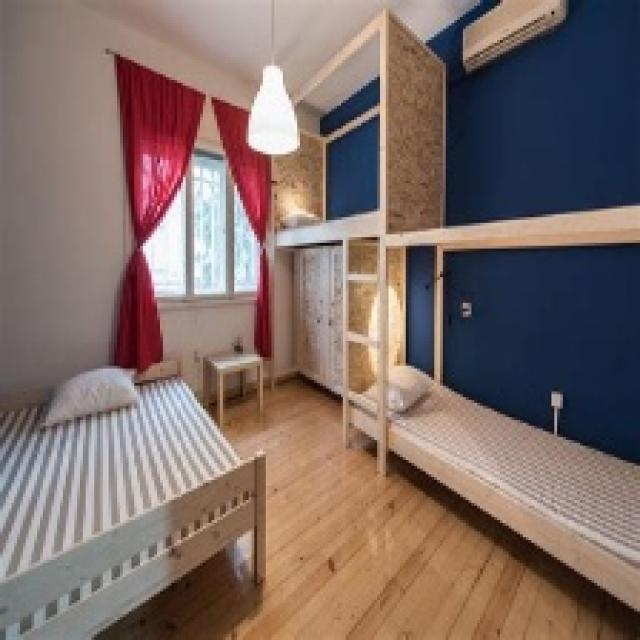Bed: (0, 357, 266, 637)
